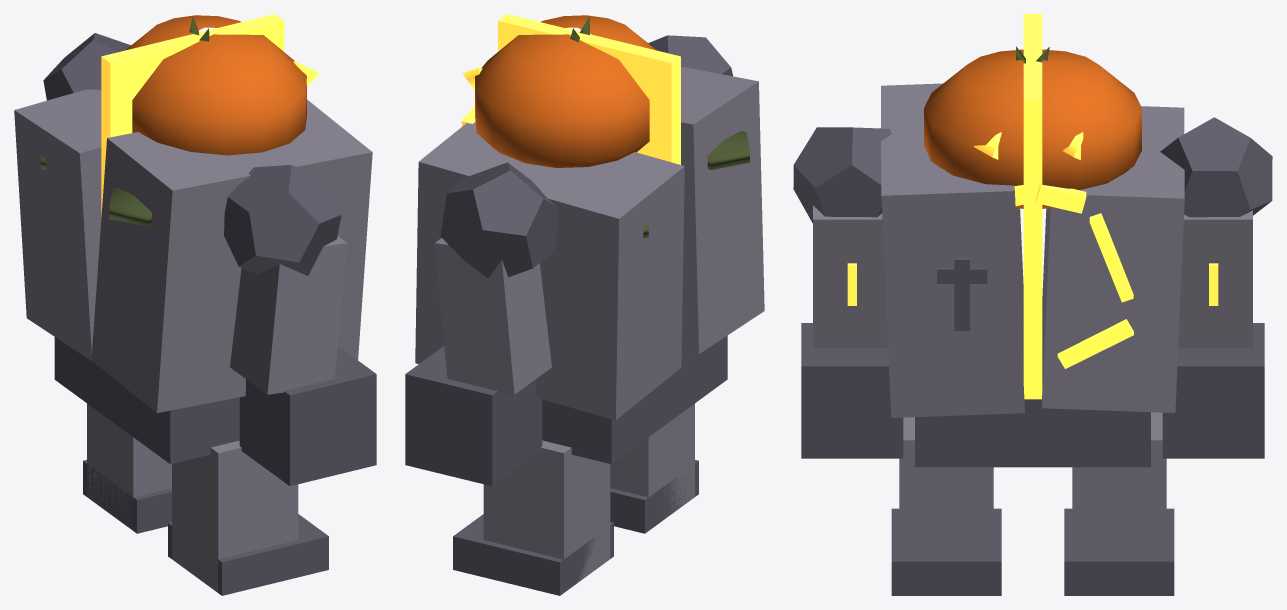
File: enemy_splitter.glb
3 renders of one model, left to right at view 1: azimuth 30°, elevation 25°; view 2: azimuth 150°, elevation 25°; view 3: azimuth 270°, elevation 25°, orthographic.
Parts seen in each view (by area): view 1: torso_l, torso_r, head_l, fist_l, arm_l_mesh, leg_l_mesh, arm_l_shoulder, hips, crack_main, leg_r_mesh, foot_l, foot_r (+3 smaller); view 2: torso_r, torso_l, head_r, fist_r, arm_r_mesh, leg_r_mesh, arm_r_shoulder, hips, crack_main, foot_r, leg_l_mesh, foot_l (+3 smaller); view 3: torso_l, torso_r, hips, head_r, head_l, fist_r, fist_l, arm_l_mesh, arm_r_mesh, leg_r_mesh, leg_l_mesh, arm_r_shoulder (+9 smaller).
Boxes of the visible parts, <box> form: torso_l: <box>91,99,372,412</box>; torso_r: <box>14,89,101,360</box>; head_l: <box>132,34,306,155</box>; fist_l: <box>239,346,376,486</box>; arm_l_mesh: <box>230,236,347,394</box>; leg_l_mesh: <box>172,440,298,592</box>; arm_l_shoulder: <box>224,165,341,275</box>; hips: <box>54,337,239,464</box>; crack_main: <box>101,14,284,216</box>; leg_r_mesh: <box>87,403,171,529</box>; foot_l: <box>168,514,328,595</box>; foot_r: <box>83,460,171,533</box>; torso_r: <box>415,122,684,420</box>; torso_l: <box>681,66,764,353</box>; head_r: <box>475,34,649,167</box>; fist_r: <box>405,346,542,486</box>; arm_r_mesh: <box>434,238,551,394</box>; leg_r_mesh: <box>483,440,610,583</box>; arm_r_shoulder: <box>440,162,557,278</box>; hips: <box>542,335,727,464</box>; crack_main: <box>498,14,680,164</box>; foot_r: <box>453,514,613,595</box>; leg_l_mesh: <box>610,403,694,518</box>; foot_l: <box>610,460,698,533</box>; torso_l: <box>881,83,1024,417</box>; torso_r: <box>1042,106,1184,412</box>; hips: <box>915,399,1150,467</box>; head_r: <box>1042,49,1141,208</box>; head_l: <box>924,49,1023,208</box>; fist_r: <box>1162,323,1264,458</box>; fist_l: <box>801,323,903,458</box>; arm_l_mesh: <box>813,205,888,348</box>; arm_r_mesh: <box>1178,210,1252,348</box>; leg_r_mesh: <box>1072,412,1166,548</box>; leg_l_mesh: <box>899,417,993,548</box>; arm_r_shoulder: <box>1160,117,1272,217</box>.
Bounding box in the file's own units: 0.1722 × 0.3655 × 0.3048.
